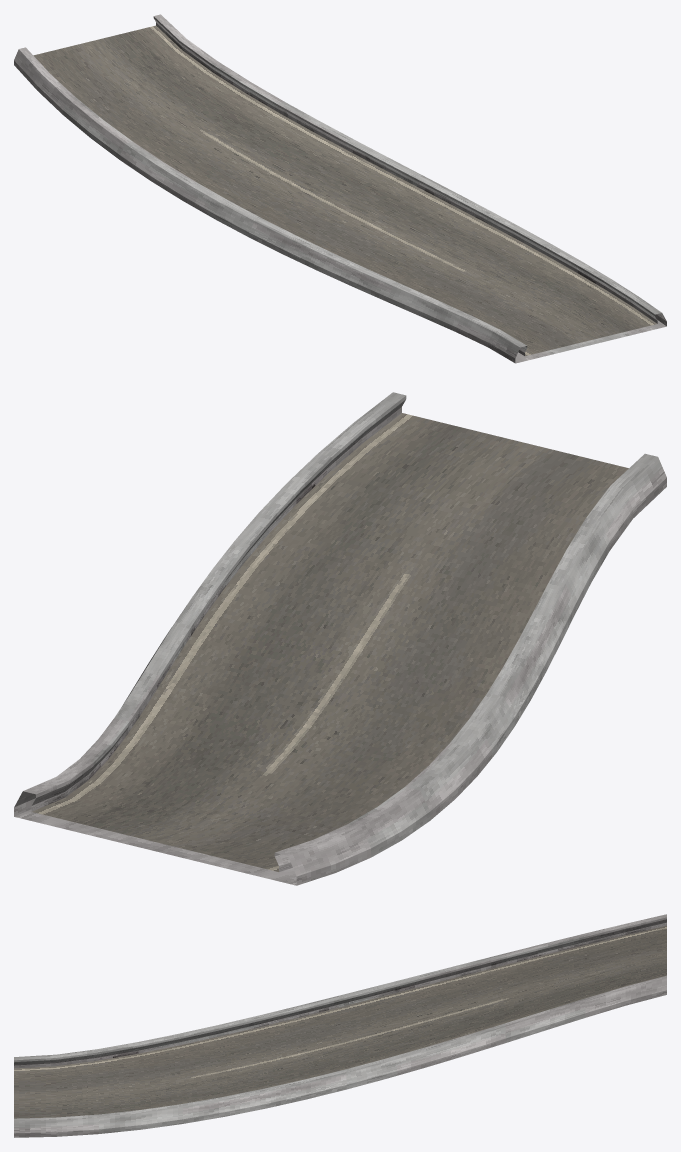
The model's file is chicane-left1x4.glb.
3 views of the same model, one above another, from view 1: azimuth 30°, elevation 25°; view 2: azimuth 150°, elevation 25°; view 3: azimuth 270°, elevation 25° (orthographic). The views are drawn at different scales.
Visible parts, largest first — view 1: road-Chicane-Flat-BiSlopeUp-Up2-Left1-Size4; view 2: road-Chicane-Flat-BiSlopeUp-Up2-Left1-Size4; view 3: road-Chicane-Flat-BiSlopeUp-Up2-Left1-Size4.
Boxes of the visible parts, box(x1,y1,x2,y2) form: road-Chicane-Flat-BiSlopeUp-Up2-Left1-Size4: box(14, 14, 666, 363); road-Chicane-Flat-BiSlopeUp-Up2-Left1-Size4: box(14, 392, 666, 885); road-Chicane-Flat-BiSlopeUp-Up2-Left1-Size4: box(14, 914, 666, 1137).
Size of the model in its own units: 2 by 0.5938 by 4.
2 materials, 2 textured.
